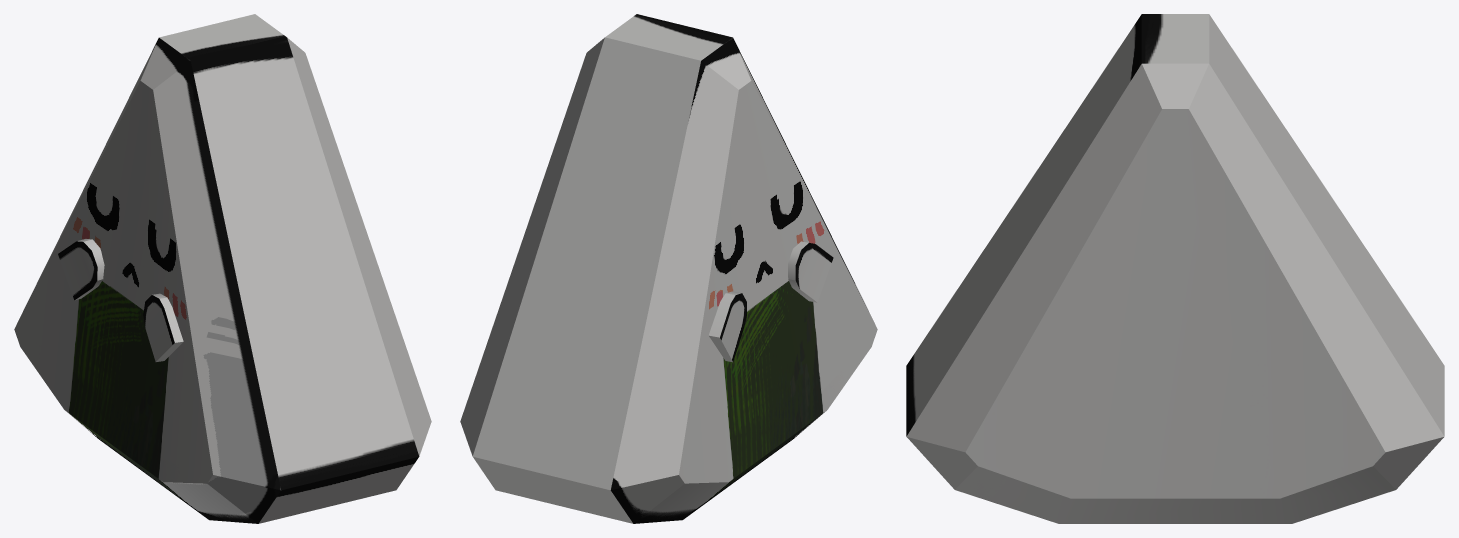
File: Onigiri (1).glb
3 views of the same model, side by side, from view 1: azimuth 30°, elevation 25°; view 2: azimuth 150°, elevation 25°; view 3: azimuth 270°, elevation 25° (orthographic). The views are drawn at different scales.
Parts seen in each view (by area): view 1: Cylinder001; view 2: Cylinder001; view 3: Cylinder001.
Part boxes in pixels (x1=…): Cylinder001: x1=14, y1=14, x2=431, y2=523; Cylinder001: x1=460, y1=14, x2=877, y2=523; Cylinder001: x1=906, y1=14, x2=1444, y2=523.
Size of the model in its own units: 0.3688 by 0.6859 by 0.744.
1 material, 1 textured.
